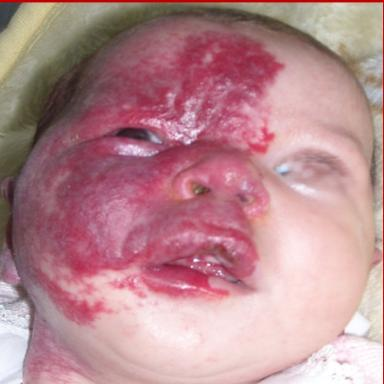Hemangiome: (14, 17, 283, 324)
